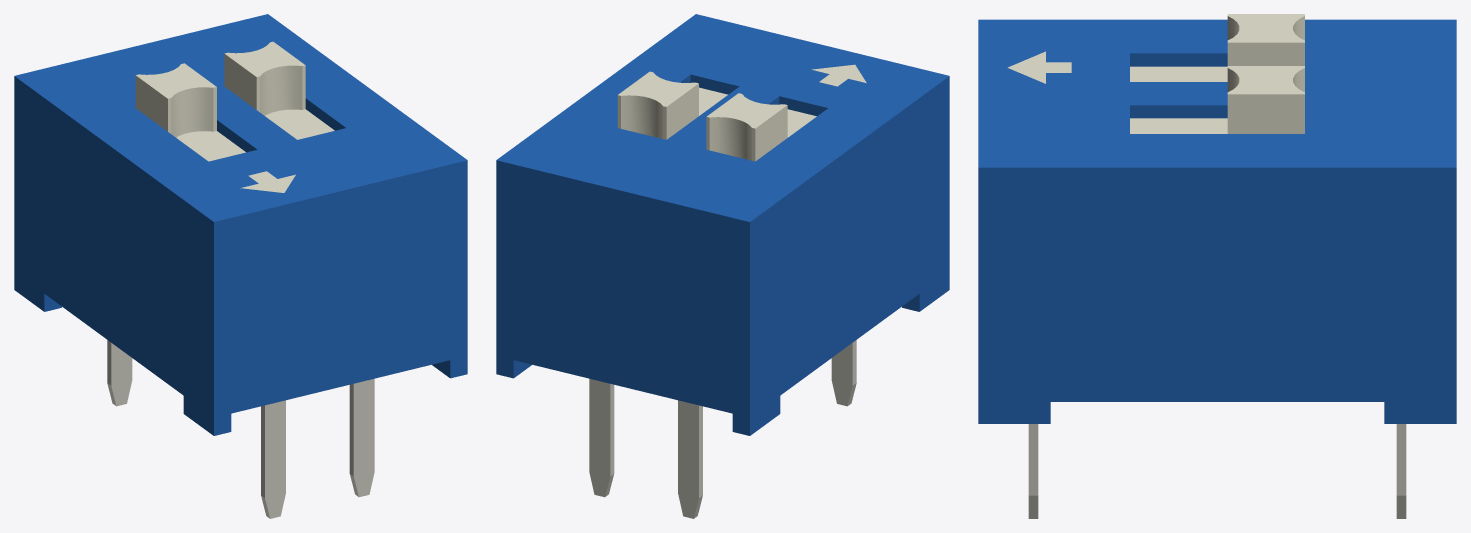
The model's file is kc-sw_dip_spstx02_slide_9.78x7.26mm_w7.62mm_p2.54mm.glb.
The picture shows the model from 3 angles, left to right: view 1: azimuth 30°, elevation 25°; view 2: azimuth 150°, elevation 25°; view 3: azimuth 270°, elevation 25°; orthographic projection. The views are drawn at different scales.
Parts seen in each view (by area): view 1: 0_0.16666666666666666_0.5_0, 0.75_0.75_0.6666666666666666_0, 0.6666666666666666_0.6666666666666666_0.5833333333333334_0.8; view 2: 0_0.16666666666666666_0.5_0, 0.75_0.75_0.6666666666666666_0, 0.6666666666666666_0.6666666666666666_0.5833333333333334_0.8; view 3: 0_0.16666666666666666_0.5_0, 0.75_0.75_0.6666666666666666_0, 0.6666666666666666_0.6666666666666666_0.5833333333333334_0.8.
Boxes of the visible parts, x1,y1,x2,y2 form: 0_0.16666666666666666_0.5_0: (14, 14, 467, 435); 0.75_0.75_0.6666666666666666_0: (135, 41, 334, 192); 0.6666666666666666_0.6666666666666666_0.5833333333333334_0.8: (107, 340, 374, 518); 0_0.16666666666666666_0.5_0: (496, 14, 949, 435); 0.75_0.75_0.6666666666666666_0: (617, 64, 866, 161); 0.6666666666666666_0.6666666666666666_0.5833333333333334_0.8: (589, 340, 856, 518); 0_0.16666666666666666_0.5_0: (978, 19, 1456, 423); 0.75_0.75_0.6666666666666666_0: (1007, 14, 1304, 133); 0.6666666666666666_0.6666666666666666_0.5833333333333334_0.8: (1028, 424, 1406, 518).
Size of the model in its own units: 0.726 by 0.995 by 0.99.
